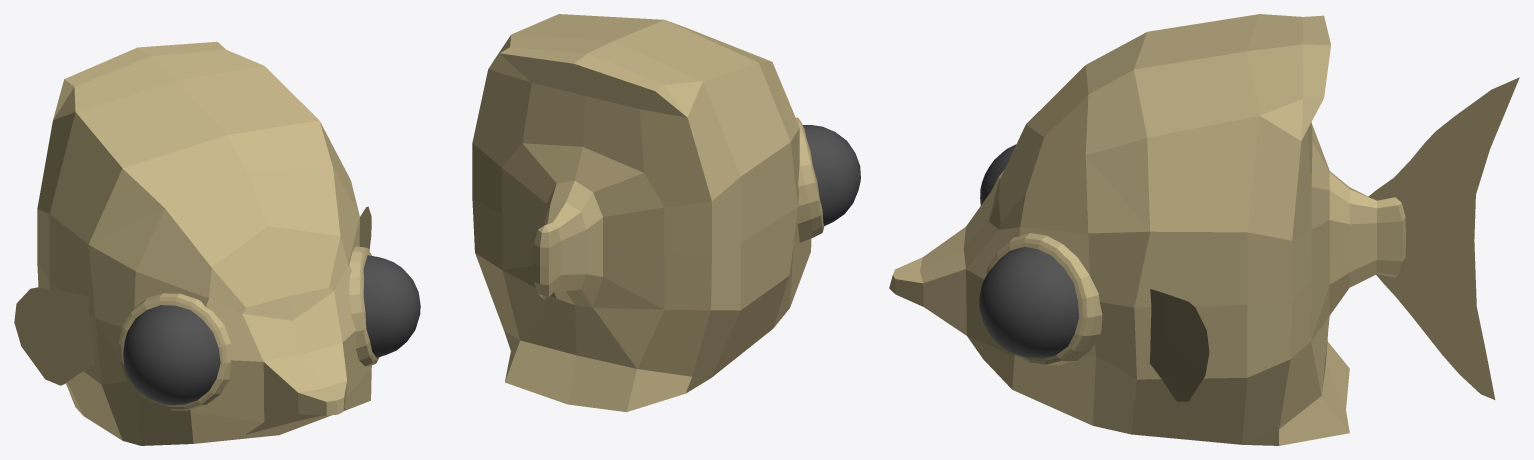
File: yellowtang.glb
3 renders of one model, left to right at view 1: azimuth 30°, elevation 25°; view 2: azimuth 150°, elevation 25°; view 3: azimuth 270°, elevation 25°, orthographic. The views are drawn at different scales.
Parts seen in each view (by area): view 1: cutefish__YellowTang.glb; view 2: cutefish__YellowTang.glb; view 3: cutefish__YellowTang.glb.
Boxes of the visible parts, left/top/right/bottom form: cutefish__YellowTang.glb: left=14, top=41, right=420, bottom=445; cutefish__YellowTang.glb: left=472, top=14, right=860, bottom=412; cutefish__YellowTang.glb: left=889, top=14, right=1519, bottom=445.
Size of the model in its own units: 3.24 by 2.87 by 4.5.
